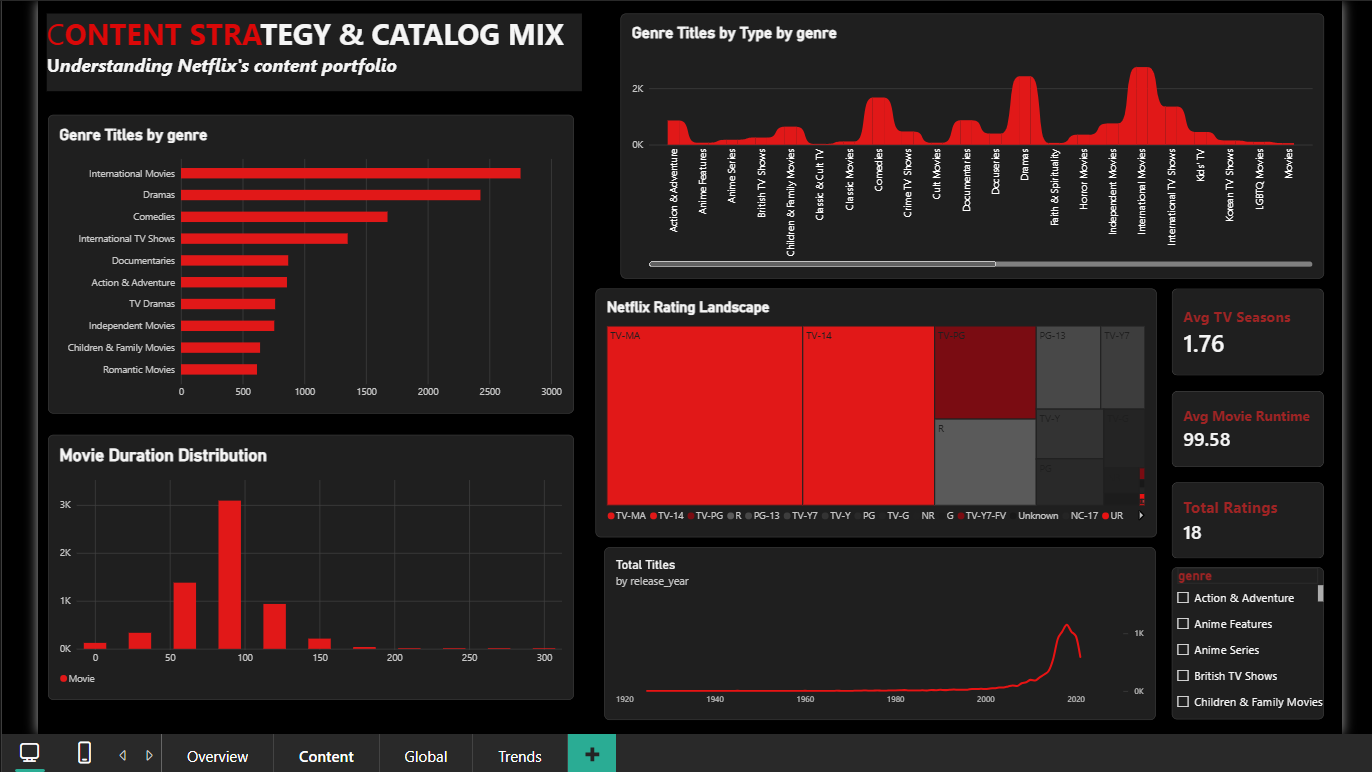

Layout of this report page (visuals, bound fields, positions):
{"tool":"powerbi","page":{"name":"Content ","canvas":[1920,1080],"ordinal":1},"visuals":[{"type":"textbox","box":[12.9,18.4,787.7,114.1],"z":0},{"type":"clusteredBarChart","fields":{"Category":["public netflix_genres.genre"],"Y":["public netflix_countries.Genre Titles"]},"box":[14,168,774,440],"z":1000},{"type":"clusteredColumnChart","title":"Movie Duration Distribution","fields":{"Category":["public netflix_titles.duration_value (bins)"],"Series":["public netflix_titles.type"],"Y":["public netflix_countries.Total Titles"]},"box":[14,638,774,390],"z":2000},{"type":"ribbonChart","fields":{"Category":["public netflix_genres.genre","public netflix_titles.type"],"Y":["public netflix_countries.Genre Titles by Type"]},"box":[858,18,1036,390],"z":3000},{"type":"treemap","title":"Netflix Rating Landscape","fields":{"Group":["public netflix_titles.rating"],"Values":["public netflix_countries.Total Titles"]},"box":[820,424,826,366],"z":4000},{"type":"cardVisual","fields":{"Data":["public netflix_countries.Avg TV Seasons"]},"box":[1670,424,224,128],"z":5000},{"type":"cardVisual","fields":{"Data":["public netflix_countries.Avg Movie Runtime"]},"box":[1670,574,224,112],"z":6000},{"type":"cardVisual","fields":{"Data":["public netflix_countries.Total Ratings"]},"box":[1670,708,224,112],"z":7000},{"type":"lineChart","fields":{"Category":["public netflix_titles.release_year"],"Y2":["public netflix_countries.Total Titles"]},"box":[834,804,812,254],"z":8000},{"type":"slicer","fields":{"Values":["public netflix_genres.genre"]},"box":[1670,834,224,224],"z":9000}]}

Visuals, with their boxes on the page's 1920x1080 design canvas (x1, y1, x2, y2). These are canvas units, not pixel positions in the 1372x772 screenshot, which may show the page scaled, cropped or inside an application window:
textbox: (x1=13, y1=18, x2=801, y2=132)
clusteredBarChart - public netflix_genres.genre x public netflix_countries.Genre Titles: (x1=14, y1=168, x2=788, y2=608)
"Movie Duration Distribution" clusteredColumnChart: (x1=14, y1=638, x2=788, y2=1028)
ribbonChart - public netflix_genres.genre x public netflix_titles.type: (x1=858, y1=18, x2=1894, y2=408)
"Netflix Rating Landscape" treemap: (x1=820, y1=424, x2=1646, y2=790)
cardVisual - public netflix_countries.Avg TV Seasons: (x1=1670, y1=424, x2=1894, y2=552)
cardVisual - public netflix_countries.Avg Movie Runtime: (x1=1670, y1=574, x2=1894, y2=686)
cardVisual - public netflix_countries.Total Ratings: (x1=1670, y1=708, x2=1894, y2=820)
lineChart - public netflix_titles.release_year x public netflix_countries.Total Titles: (x1=834, y1=804, x2=1646, y2=1058)
slicer - public netflix_genres.genre: (x1=1670, y1=834, x2=1894, y2=1058)
